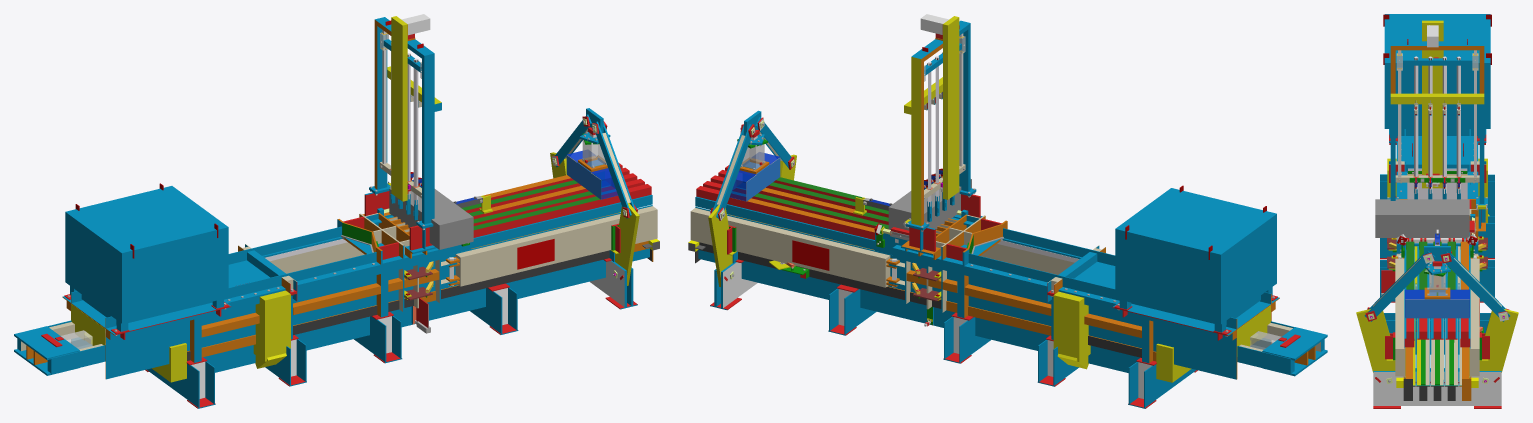
Rendered from Maquina A prueba.glb.
3 renders of one model, left to right at view 1: azimuth 30°, elevation 25°; view 2: azimuth 150°, elevation 25°; view 3: azimuth 270°, elevation 25°, orthographic. The views are drawn at different scales.
Parts seen in each view (by area): view 1: Solid1; view 2: Solid1; view 3: Solid1.
Part boxes in pixels (x1=…): Solid1: x1=14, y1=14, x2=659, y2=408; Solid1: x1=688, y1=14, x2=1327, y2=408; Solid1: x1=1356, y1=14, x2=1518, y2=408.
Bounding box in the file's own units: 8.3 × 4.07 × 2.05.
